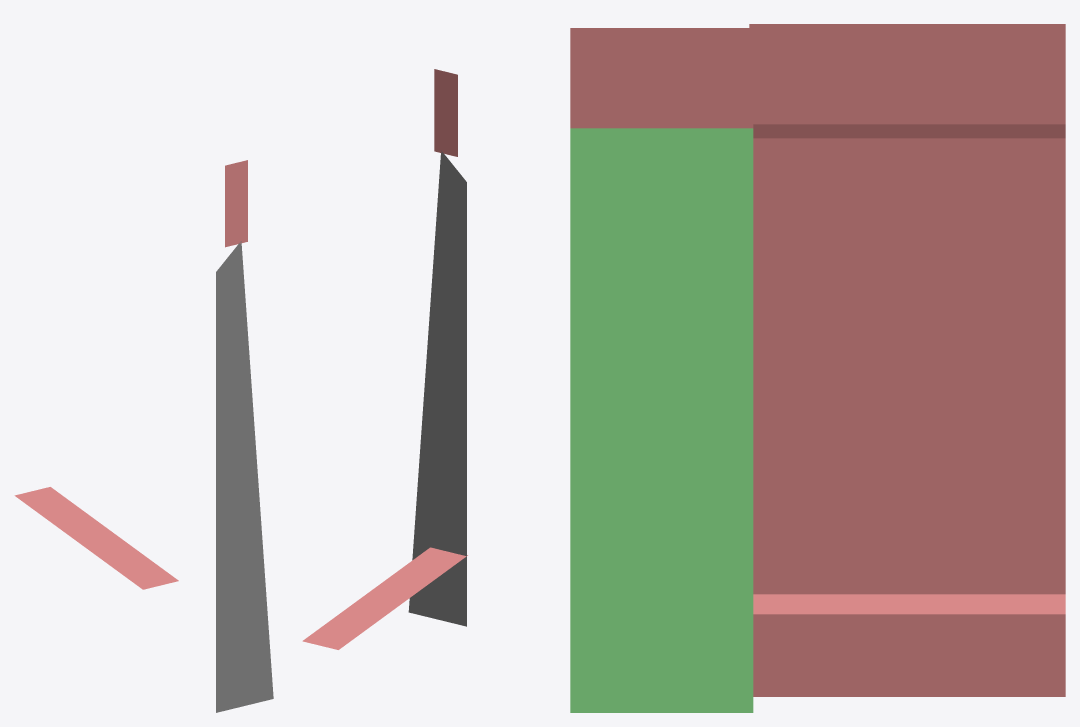
Rendered from SSQ_dungeon_S__SSQ_Room01_Wall03.gltf.
3 renders of one model, left to right at view 1: azimuth 30°, elevation 25°; view 2: azimuth 150°, elevation 25°; view 3: azimuth 270°, elevation 25°, orthographic. The views are drawn at different scales.
Visible parts, largest first — view 1: SSQ_Room01_Wall03; view 2: SSQ_Room01_Wall03; view 3: SSQ_Room01_Wall03.
Boxes of the visible parts, x1,y1,x2,y2 form: SSQ_Room01_Wall03: (14,160,273,712); SSQ_Room01_Wall03: (302,69,467,649); SSQ_Room01_Wall03: (570,24,1065,712).
Bounding box in the file's own units: 0.4295 × 3.88 × 2.6.
